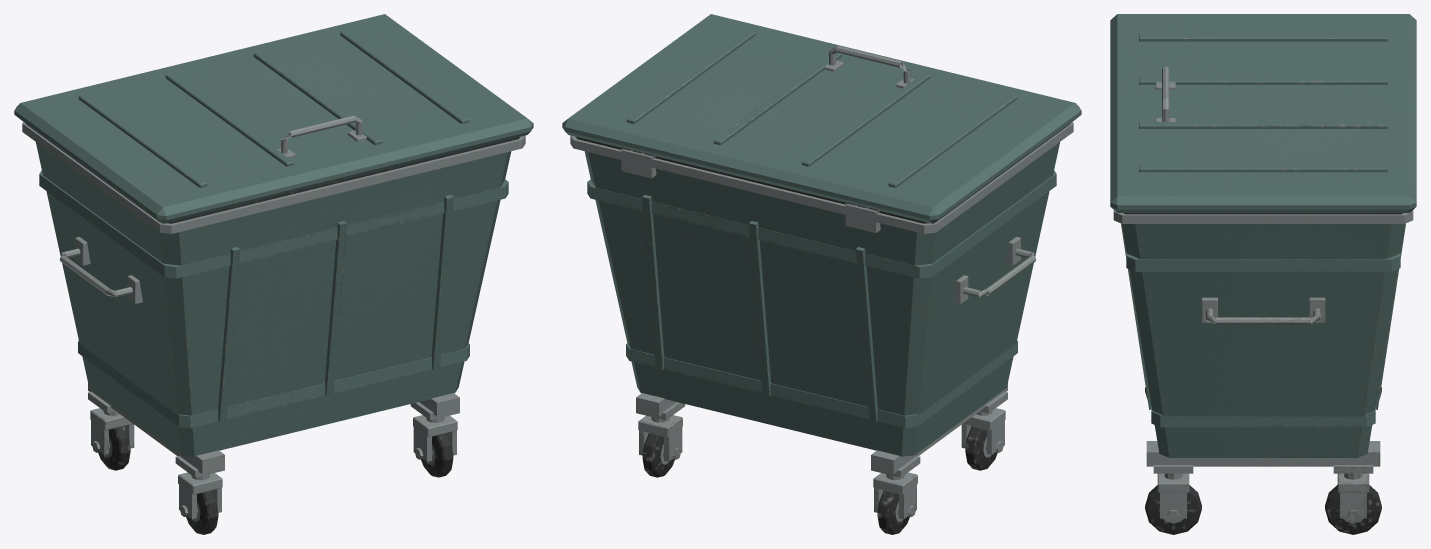
The model's file is industrial_dumpster_closed.glb.
The picture shows the model from 3 angles, left to right: view 1: azimuth 30°, elevation 25°; view 2: azimuth 150°, elevation 25°; view 3: azimuth 270°, elevation 25°; orthographic projection. The views are drawn at different scales.
Visible parts, largest first — view 1: DumpsterBodyClosed; view 2: DumpsterBodyClosed; view 3: DumpsterBodyClosed.
Part boxes in pixels (bbox=[...]): DumpsterBodyClosed: bbox=[14, 14, 533, 534]; DumpsterBodyClosed: bbox=[562, 14, 1081, 534]; DumpsterBodyClosed: bbox=[1110, 14, 1416, 534].
Size of what is drawn, in the model's own units: 1.43 by 1.37 by 0.97.
1 material, 1 textured.
